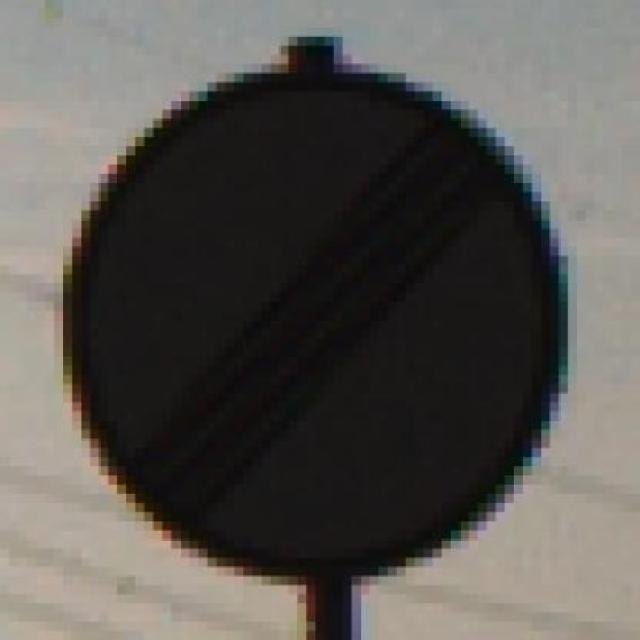End of all speed and passing limits: (35, 27, 577, 595)
